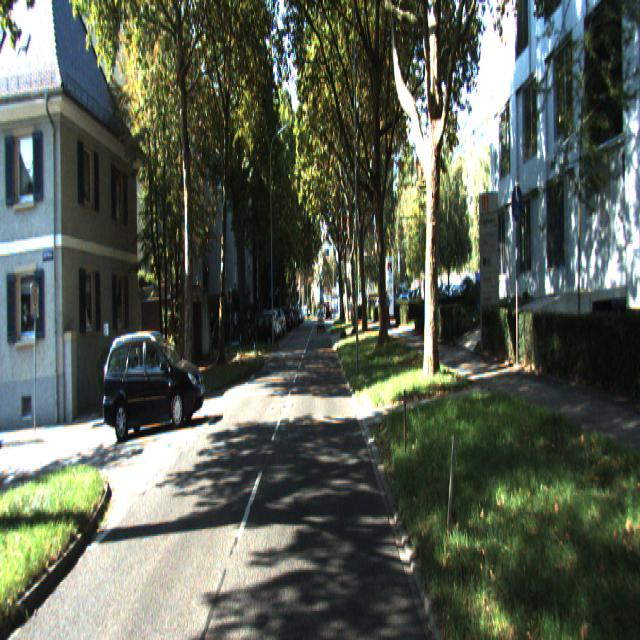Car: (103, 332, 205, 443), (248, 313, 274, 347)
